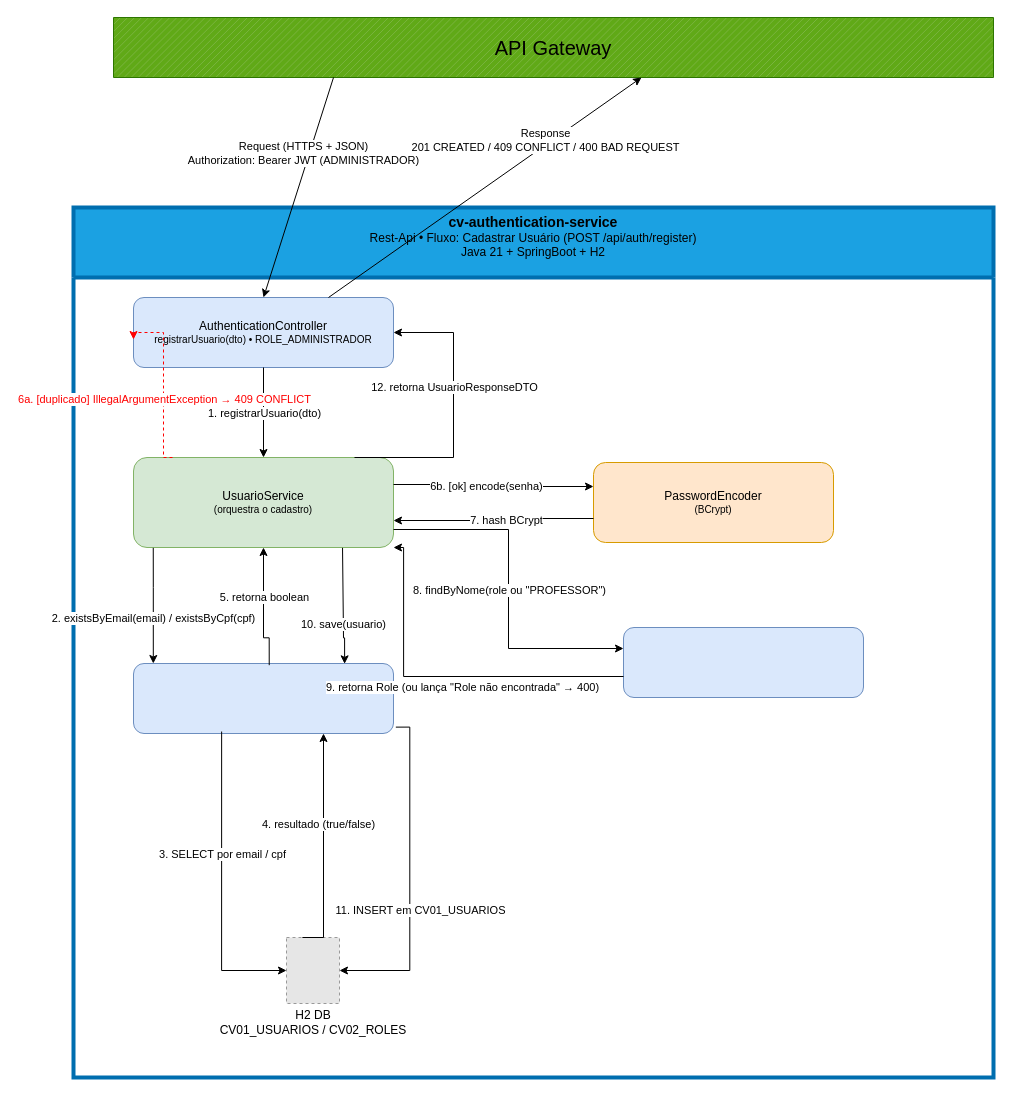
This 1012x1097 diagram has some shape labels left out. Grey dashed boxes stand in for pictures. Here are the shapes that lost their labels. From the top down, the box of each, then its label:
(622, 626, 864, 698): RoleRepository findByNome(role)
(132, 662, 394, 734): UsuarioRepository existsByEmail / existsByCpf / save
